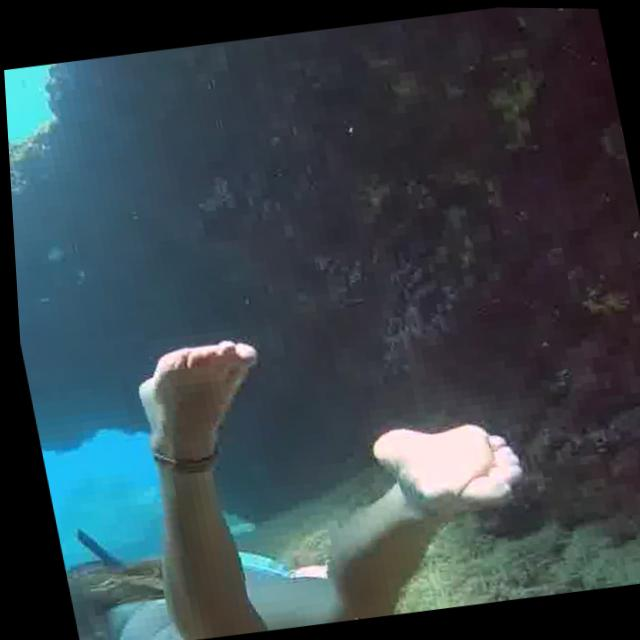human: (16, 292, 552, 640)
